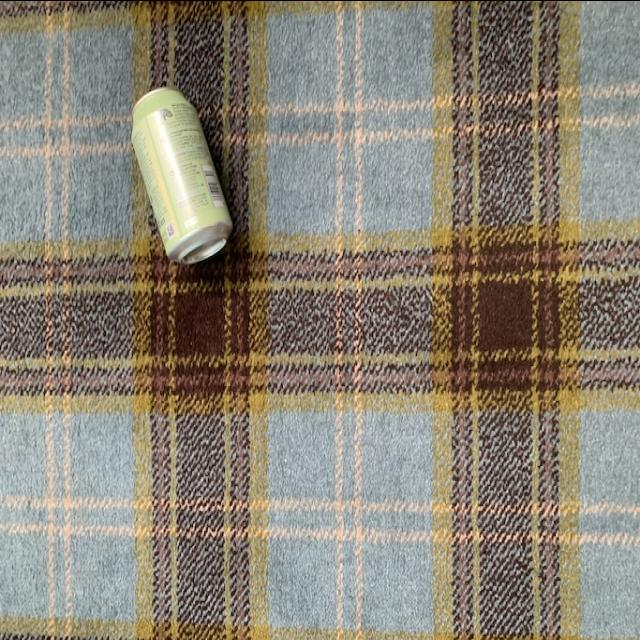Aluminum Can: (128, 79, 240, 268)
